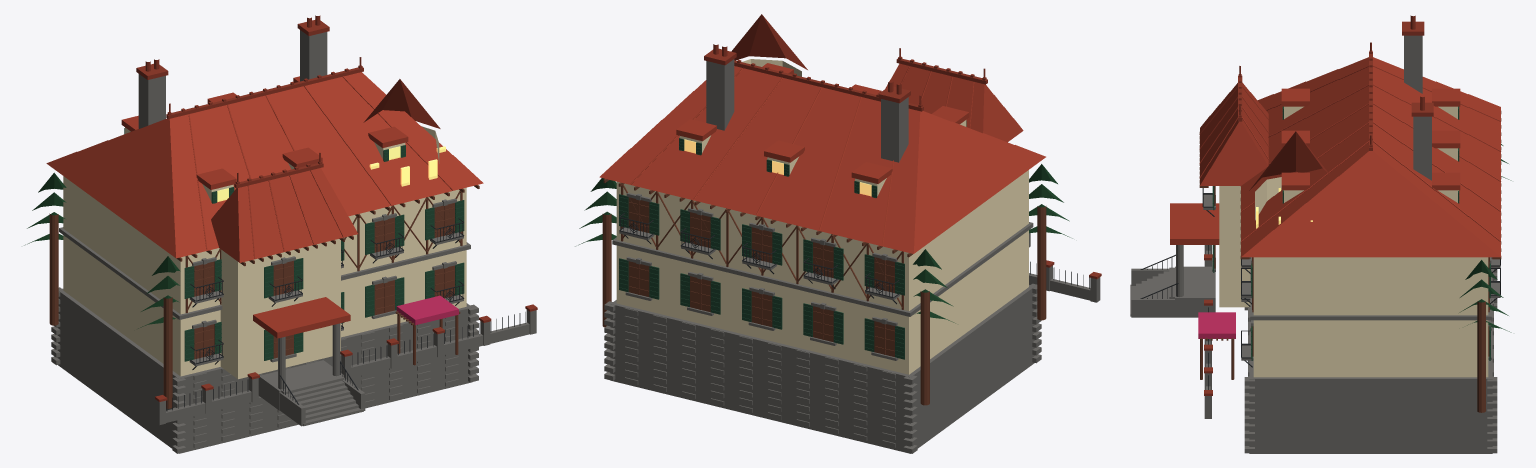
File: fv_thd_02_villa_15_brittany.glb
3 views of the same model, side by side, from view 1: azimuth 30°, elevation 25°; view 2: azimuth 150°, elevation 25°; view 3: azimuth 270°, elevation 25° (orthographic). The views are drawn at different scales.
Visible parts, largest first — view 1: marseille_corrugated_roof_tiles, granite_foundation_and_stairs, stucco_facade_and_dormers, colombage_timber_and_eaves, pine_green_louvered_shutters, ridge_cresting_and_chimneys, wrought_iron_balconies_3d, pine_trees_and_garden_hedges, bougainvillea_pergola_clusters, warm_night_windows_ffb86c; view 2: marseille_corrugated_roof_tiles, granite_foundation_and_stairs, stucco_facade_and_dormers, colombage_timber_and_eaves, pine_green_louvered_shutters, ridge_cresting_and_chimneys, pine_trees_and_garden_hedges, wrought_iron_balconies_3d; view 3: marseille_corrugated_roof_tiles, stucco_facade_and_dormers, granite_foundation_and_stairs, colombage_timber_and_eaves, ridge_cresting_and_chimneys, bougainvillea_pergola_clusters, wrought_iron_balconies_3d, pine_trees_and_garden_hedges, pine_green_louvered_shutters.
Part boxes in pixels (bbox=[...]): marseille_corrugated_roof_tiles: bbox=[46, 72, 483, 338]; granite_foundation_and_stairs: bbox=[51, 30, 536, 453]; stucco_facade_and_dormers: bbox=[63, 126, 466, 379]; colombage_timber_and_eaves: bbox=[49, 185, 479, 408]; pine_green_louvered_shutters: bbox=[124, 128, 464, 361]; ridge_cresting_and_chimneys: bbox=[136, 15, 537, 401]; wrought_iron_balconies_3d: bbox=[166, 218, 525, 411]; pine_trees_and_garden_hedges: bbox=[24, 172, 180, 328]; bougainvillea_pergola_clusters: bbox=[396, 295, 458, 325]; warm_night_windows_ffb86c: bbox=[217, 146, 445, 201]; marseille_corrugated_roof_tiles: bbox=[599, 14, 1045, 253]; granite_foundation_and_stairs: bbox=[604, 59, 1100, 453]; stucco_facade_and_dormers: bbox=[616, 59, 1028, 374]; colombage_timber_and_eaves: bbox=[602, 179, 1046, 405]; pine_green_louvered_shutters: bbox=[619, 121, 966, 359]; ridge_cresting_and_chimneys: bbox=[704, 44, 1101, 279]; pine_trees_and_garden_hedges: bbox=[575, 164, 1072, 323]; wrought_iron_balconies_3d: bbox=[619, 213, 1089, 304]; marseille_corrugated_roof_tiles: bbox=[1170, 57, 1501, 257]; stucco_facade_and_dormers: bbox=[1219, 106, 1488, 377]; granite_foundation_and_stairs: bbox=[1130, 35, 1500, 453]; colombage_timber_and_eaves: bbox=[1199, 111, 1501, 412]; ridge_cresting_and_chimneys: bbox=[1204, 15, 1433, 395]; bougainvillea_pergola_clusters: bbox=[1198, 312, 1235, 338]; wrought_iron_balconies_3d: bbox=[1140, 188, 1500, 389]; pine_trees_and_garden_hedges: bbox=[1459, 144, 1511, 332]; pine_green_louvered_shutters: bbox=[1212, 106, 1490, 360].
Bounding box in the file's own units: 25.26 × 20.33 × 22.49.
